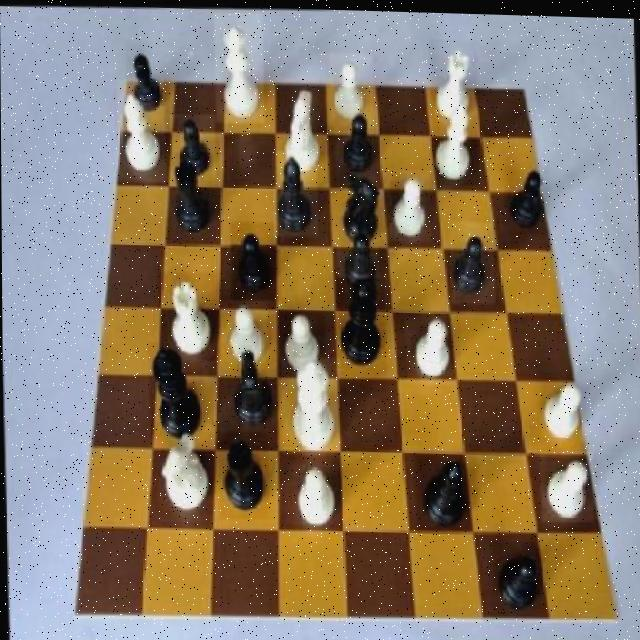bishop: (414, 451, 479, 533), (273, 148, 318, 235)
black-bishop: (147, 340, 204, 438)
black-king: (223, 342, 276, 427), (335, 162, 384, 245)
black-knight: (489, 538, 542, 616), (230, 219, 280, 299), (449, 218, 494, 302), (335, 102, 381, 177), (170, 111, 217, 180), (504, 163, 550, 233), (125, 41, 168, 115), (335, 228, 379, 295)
black-pawn: (336, 275, 387, 376)
black-queen: (218, 430, 269, 518), (169, 150, 214, 229)
black-rook: (116, 78, 166, 182), (430, 95, 480, 183)
white-bishop: (281, 354, 341, 455)
white-king: (151, 428, 212, 514), (277, 74, 322, 182)
white-knight: (531, 372, 590, 453), (540, 448, 594, 520), (406, 306, 456, 383), (279, 305, 328, 379), (221, 299, 268, 371), (291, 461, 339, 531), (386, 166, 431, 240), (329, 51, 373, 126)
white-pawn: (215, 11, 265, 123)
white-queen: (158, 270, 222, 361), (429, 36, 477, 125)
